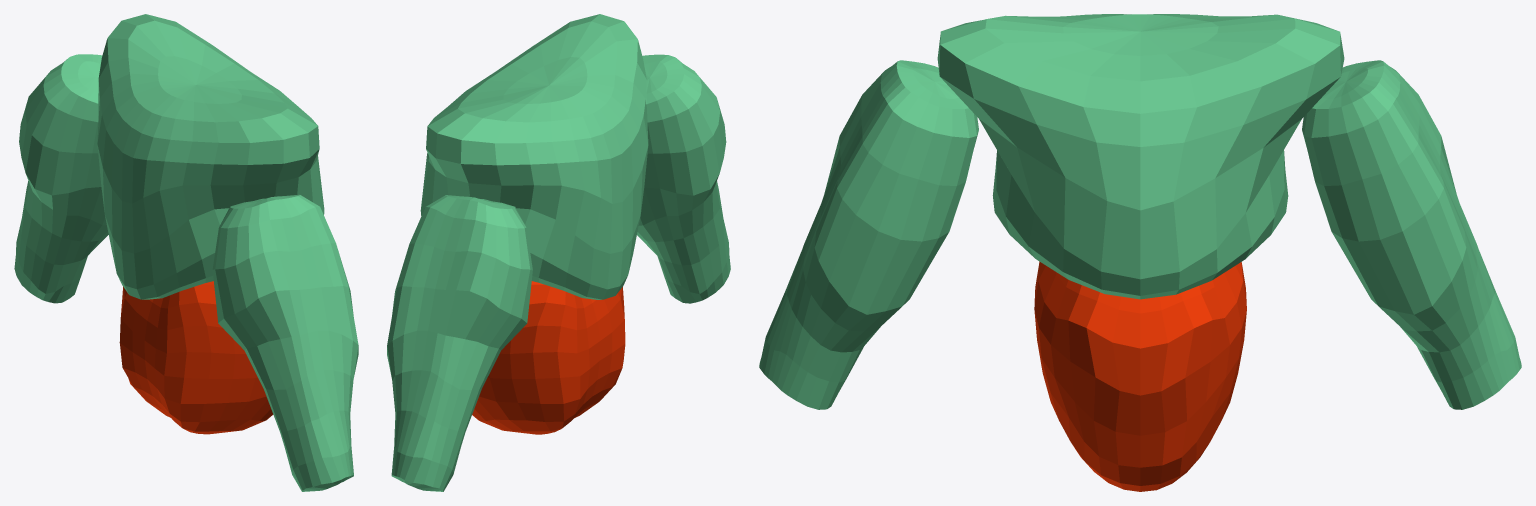
Rendered from torso_variant-2.glb.
The picture shows the model from 3 angles, left to right: view 1: azimuth 30°, elevation 25°; view 2: azimuth 150°, elevation 25°; view 3: azimuth 270°, elevation 25°; orthographic projection. The views are drawn at different scales.
Parts seen in each view (by area): view 1: arms-upper-1, torso-1, belly-1; view 2: arms-upper-1, torso-1, belly-1; view 3: torso-1, arms-upper-1, belly-1.
Part boxes in pixels (<box>): arms-upper-1: <box>14,54,358,491</box>; torso-1: <box>97,14,324,299</box>; belly-1: <box>119,281,273,434</box>; arms-upper-1: <box>387,54,730,491</box>; torso-1: <box>420,14,648,299</box>; belly-1: <box>472,281,625,434</box>; torso-1: <box>937,14,1344,299</box>; arms-upper-1: <box>759,60,1521,409</box>; belly-1: <box>1034,261,1246,491</box>.
Bounding box in the file's own units: 0.6619 × 1.2 × 1.86.
